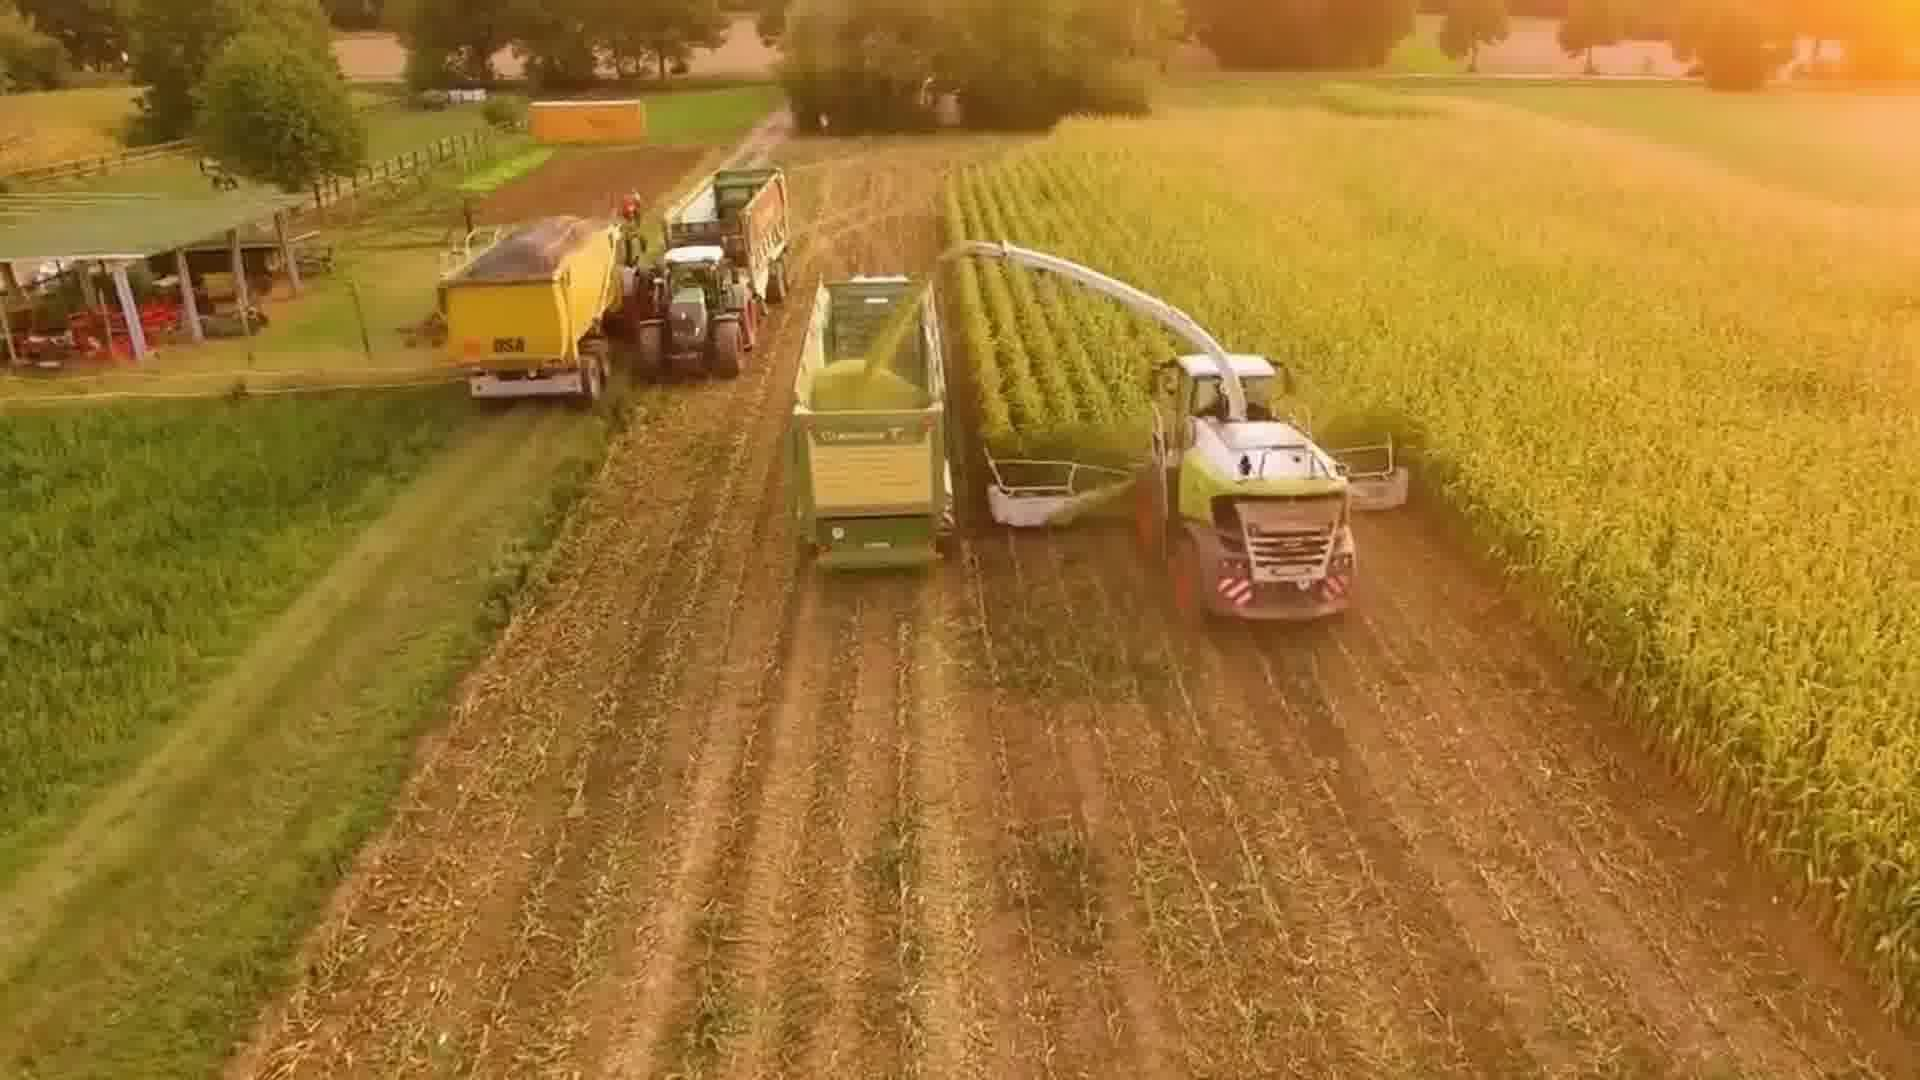combine harvester: (944, 231, 1416, 634)
tractor: (633, 241, 760, 384)
trailer: (780, 270, 959, 580), (439, 210, 623, 410), (656, 164, 791, 304)
